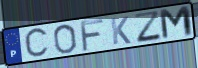C: (23, 26, 51, 61)
F: (79, 18, 106, 53)
K: (109, 15, 132, 46)
M: (158, 4, 195, 42)
O: (52, 23, 78, 55)
Z: (133, 9, 164, 44)
